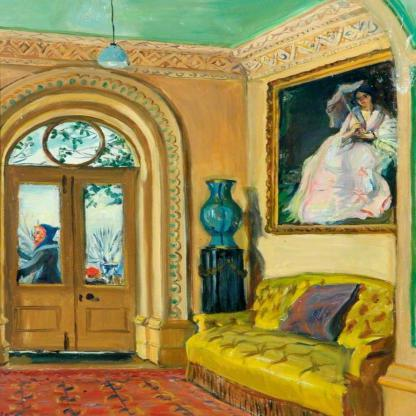vase: (197, 179, 243, 250)
